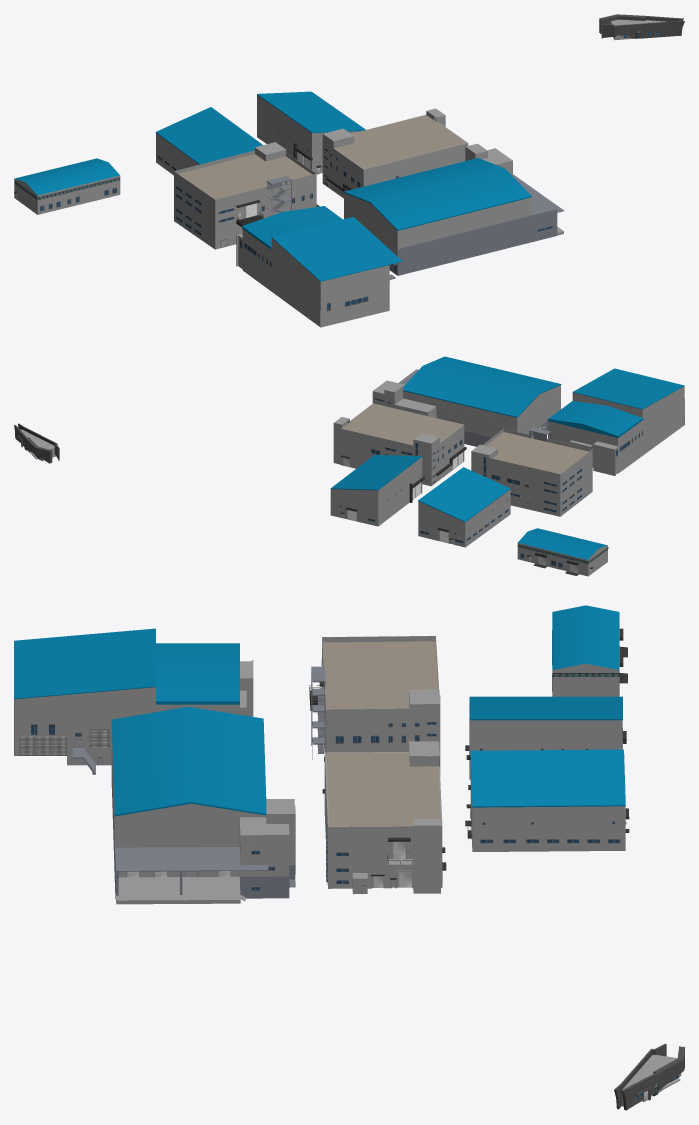
Rendered from soubrain_T7.glb.
3 renders of one model, top to bottom at view 1: azimuth 30°, elevation 25°; view 2: azimuth 150°, elevation 25°; view 3: azimuth 270°, elevation 25°, orthographic. The views are drawn at different scales.
Visible parts, largest first — view 1: T7-5 (1), T7-1 (1), Box1705, T7-6, Box060, Line002 (1), Line004, s086-10-1-2, Box047, Box039; view 2: T7-5 (1), T7-1 (1), Box1705, T7-6, Line002 (1), Box060, Line004, s086-10-1-2, Box039, Box047; view 3: T7-5 (1), T7-1 (1), T7-6, Box060, Box1705, Line002 (1), Line004, s086-10-1-2, T7-1 window, Box521.
Boxes of the visible parts, <box> form: T7-5 (1): <box>343,143,564,275</box>; T7-1 (1): <box>236,206,402,327</box>; Box1705: <box>174,142,316,249</box>; T7-6: <box>322,108,468,198</box>; Box060: <box>257,91,365,173</box>; Line002 (1): <box>155,107,262,175</box>; Line004: <box>14,158,120,214</box>; s086-10-1-2: <box>599,14,684,38</box>; Box047: <box>14,177,120,211</box>; Box039: <box>176,185,312,235</box>; T7-5 (1): <box>372,356,561,446</box>; T7-1 (1): <box>547,368,684,475</box>; Box1705: <box>471,427,592,516</box>; T7-6: <box>333,403,464,486</box>; Line002 (1): <box>418,467,510,547</box>; Box060: <box>330,455,424,526</box>; Line004: <box>517,528,607,576</box>; s086-10-1-2: <box>14,423,59,463</box>; Box039: <box>483,456,582,512</box>; Box047: <box>517,544,608,567</box>; T7-5 (1): <box>111,706,295,904</box>; T7-1 (1): <box>14,628,253,774</box>; T7-6: <box>324,741,446,894</box>; Box060: <box>465,749,629,851</box>; Box1705: <box>309,636,440,774</box>; Line002 (1): <box>465,696,626,779</box>; Line004: <box>552,605,619,696</box>; s086-10-1-2: <box>614,1043,684,1110</box>; T7-1 window: <box>19,723,109,765</box>; Box521: <box>361,841,442,893</box>.
Bounding box in the file's own units: 254 × 19.91 × 152.
26 materials, 18 textured.
